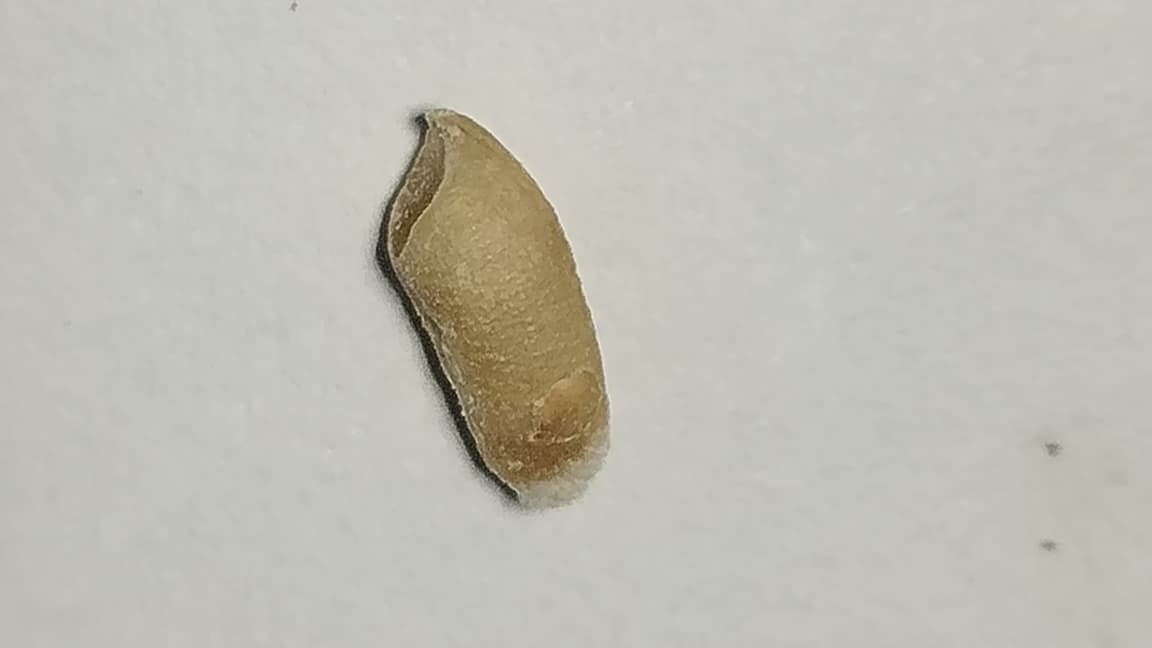damage: (386, 110, 608, 505)
insectdamage: (379, 104, 470, 267)
